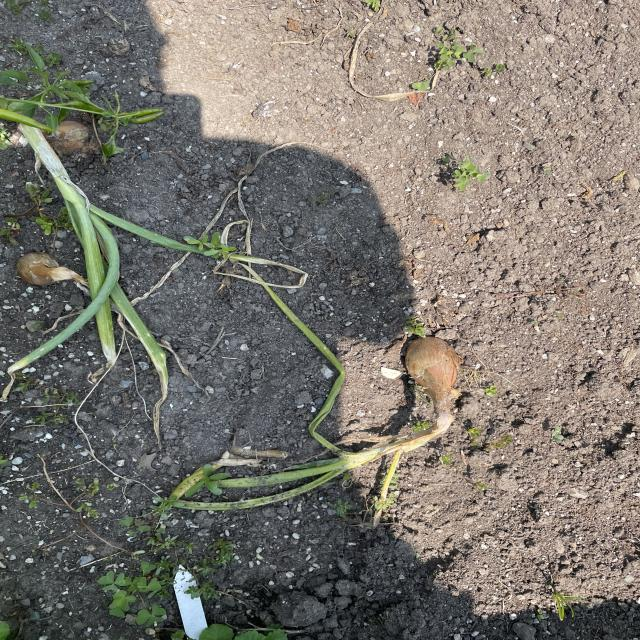Onion: (186, 318, 486, 533), (14, 106, 220, 270), (8, 246, 170, 383)
weed: (90, 512, 237, 632), (394, 28, 493, 84), (438, 148, 485, 195)
